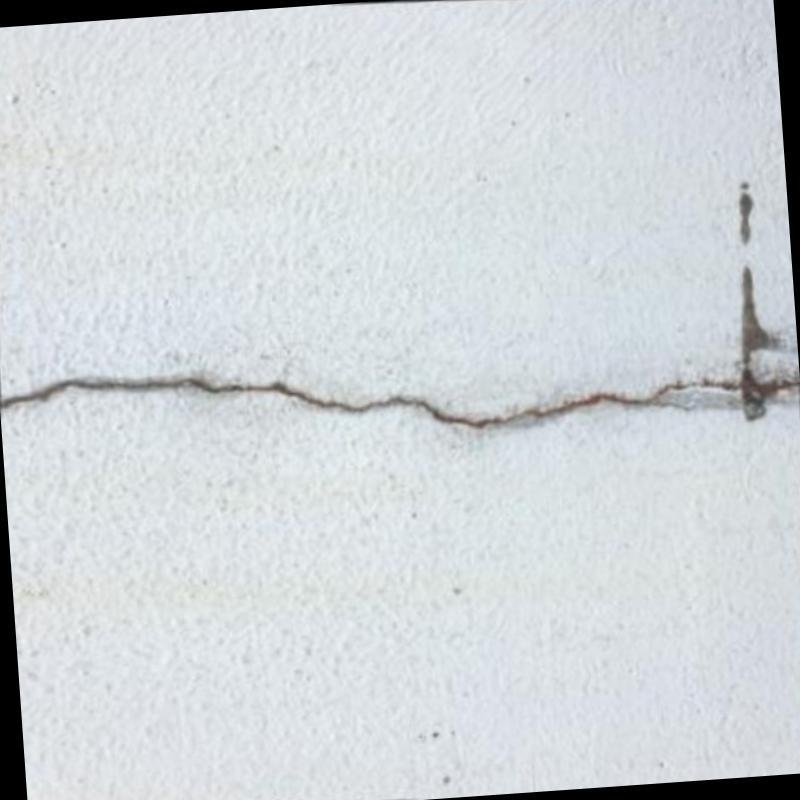pothole: (4, 372, 732, 429)
